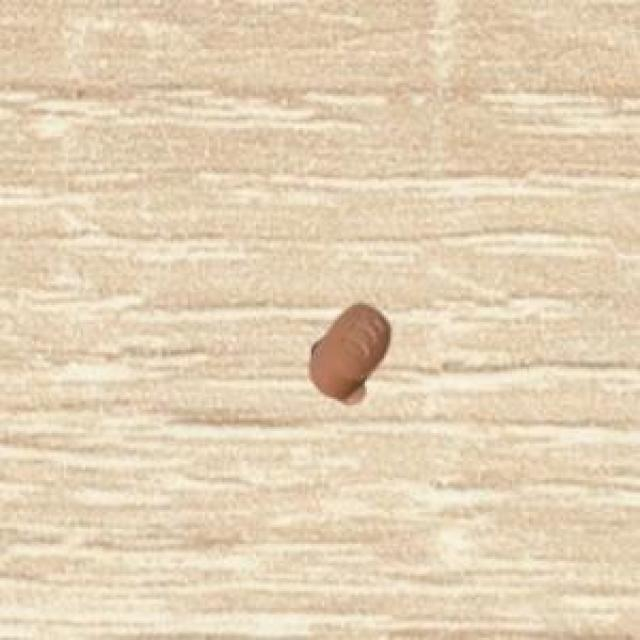Biogesic: (294, 275, 405, 420)
